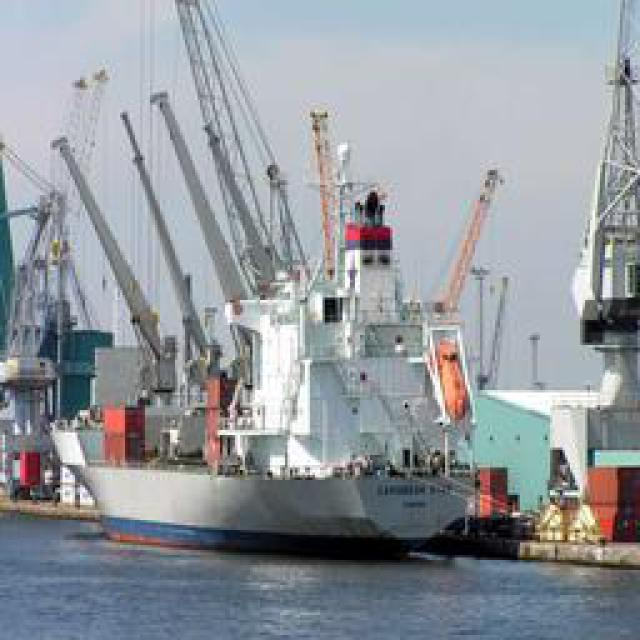Ship: (38, 70, 563, 560)
